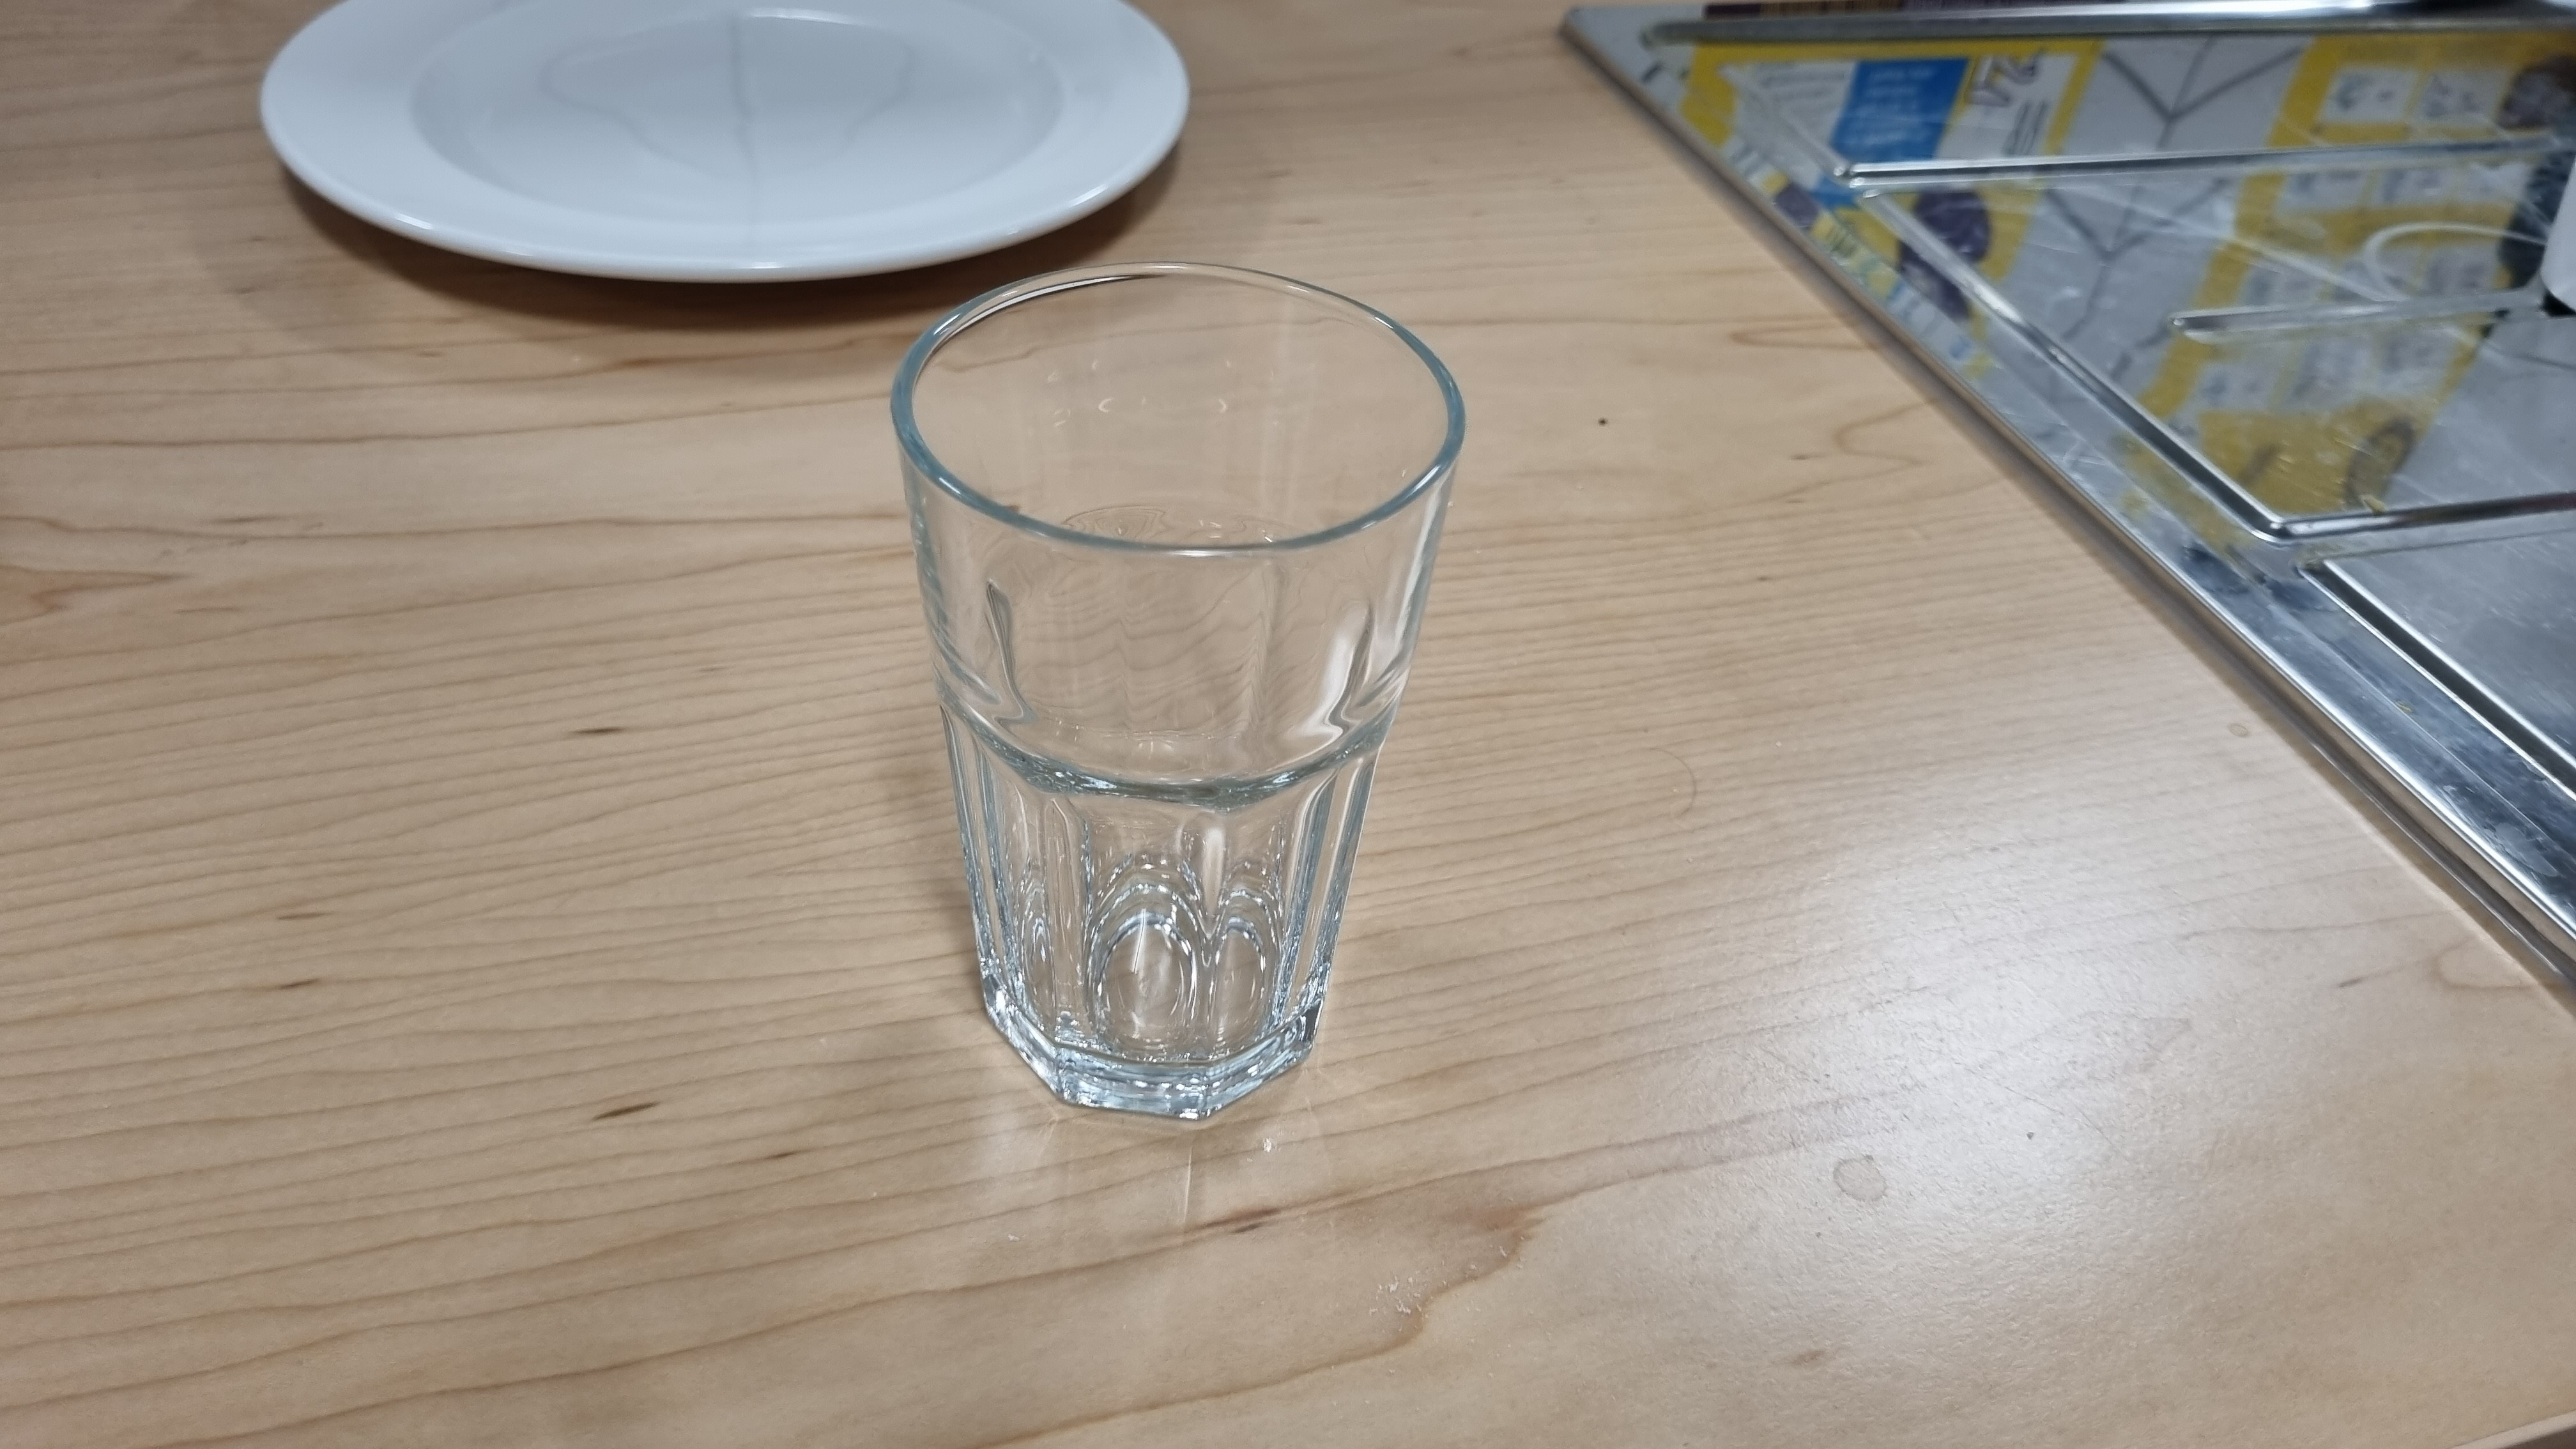glass: (858, 244, 1472, 1131)
plate: (219, 4, 1208, 294)
